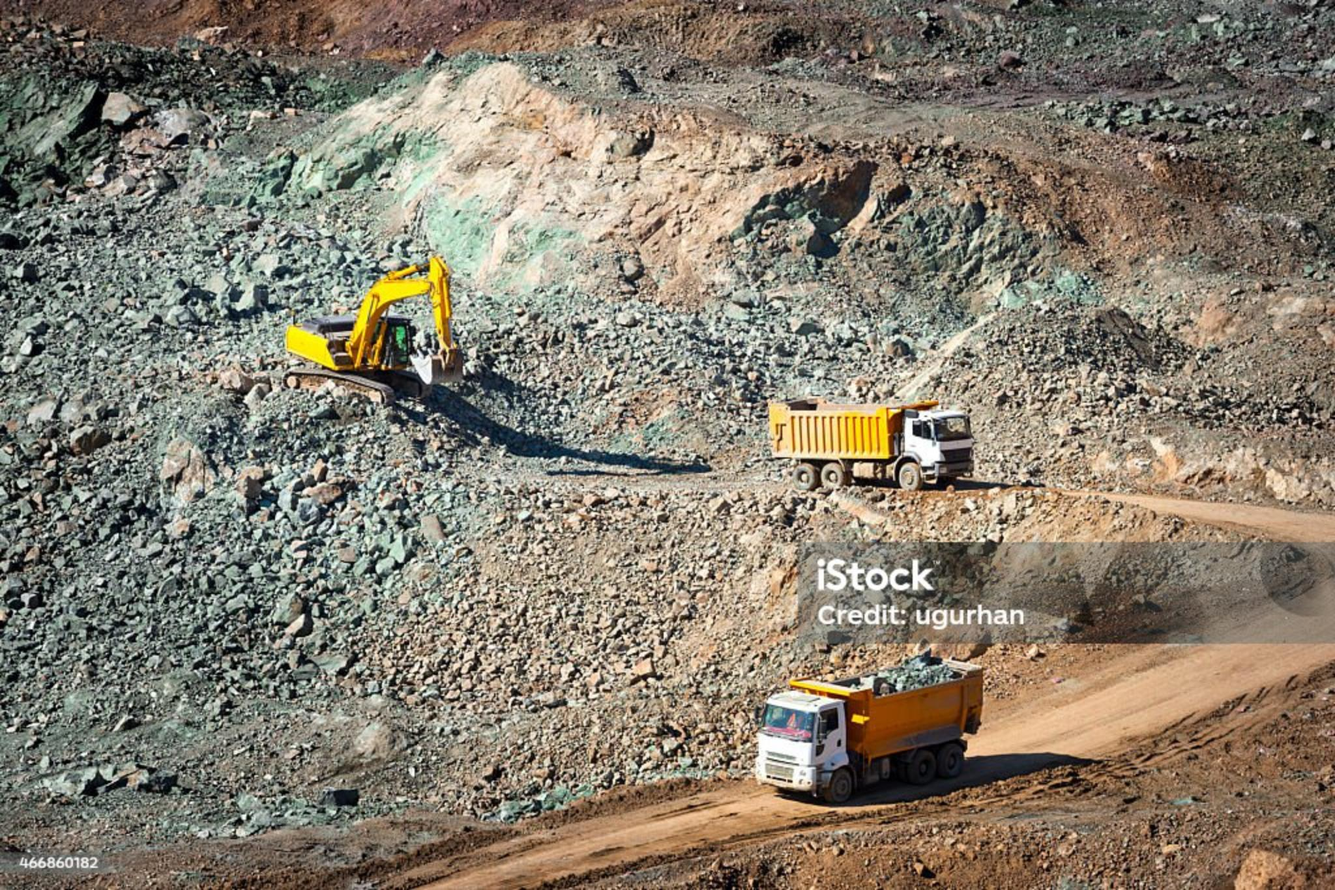benches: (403, 580, 1334, 889), (1064, 491, 1334, 545)
excavator: (272, 252, 485, 434)
truck: (750, 647, 1013, 804), (750, 393, 997, 484)
wall: (301, 63, 872, 293)
